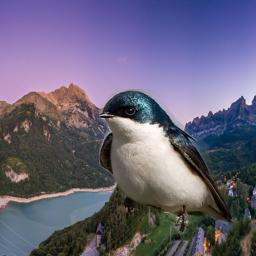Swallow: (99, 89, 236, 234)
